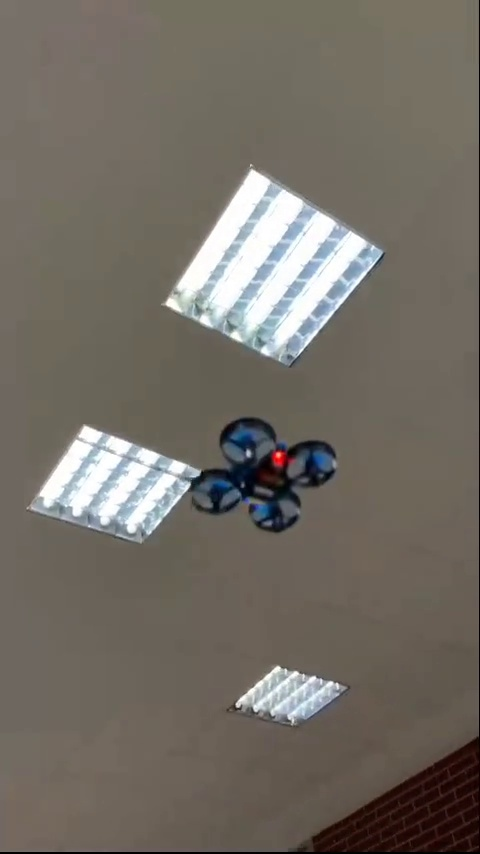drone: (190, 421, 337, 534)
